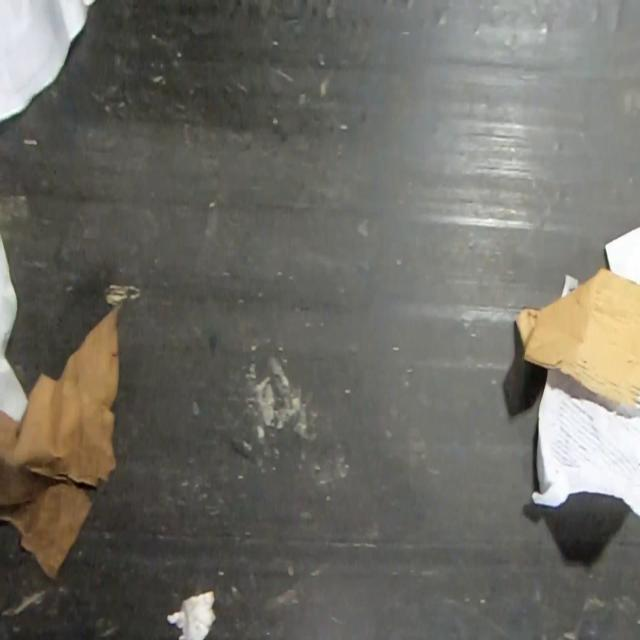cardboard: (515, 263, 640, 409)
